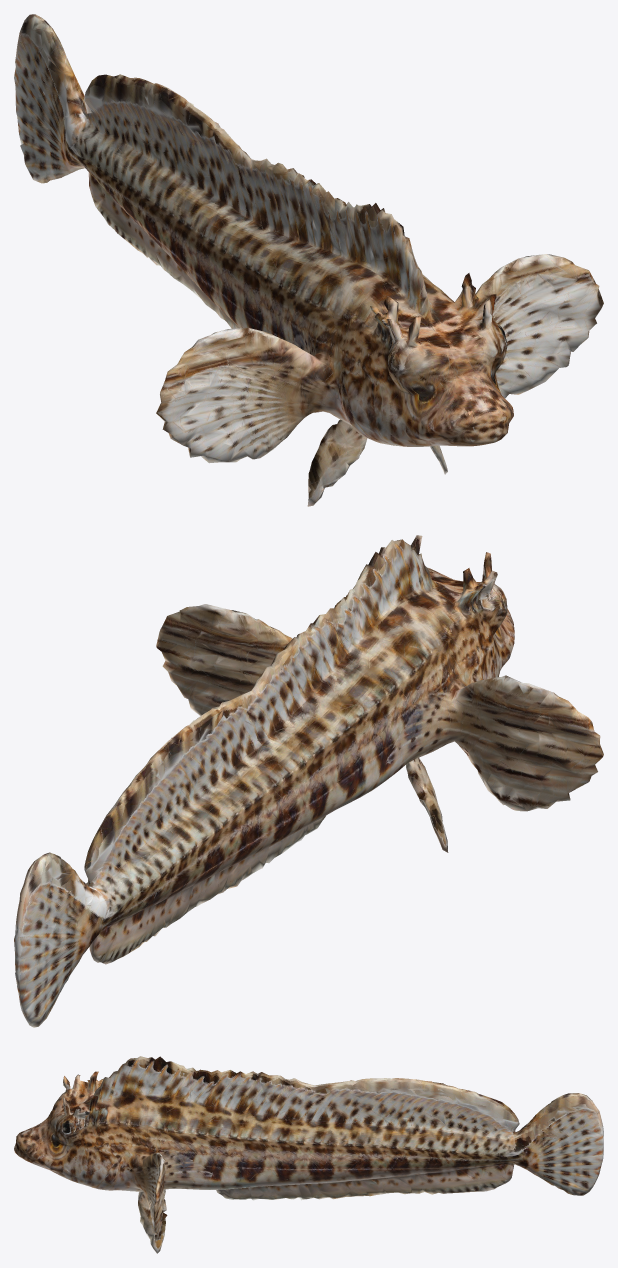
File: fish_blenny.glb
The picture shows the model from 3 angles, top to bottom: view 1: azimuth 30°, elevation 25°; view 2: azimuth 150°, elevation 25°; view 3: azimuth 270°, elevation 25°; orthographic projection. The views are drawn at different scales.
Parts seen in each view (by area): view 1: geometry_0; view 2: geometry_0; view 3: geometry_0.
Boxes of the visible parts, box(x1,y1,x2,y2) form: geometry_0: box(14, 14, 603, 506); geometry_0: box(14, 535, 603, 1027); geometry_0: box(14, 1056, 603, 1253).
Size of the model in its own units: 1.06 by 0.6504 by 1.96.
Materials: 1 (1 with a texture image).
